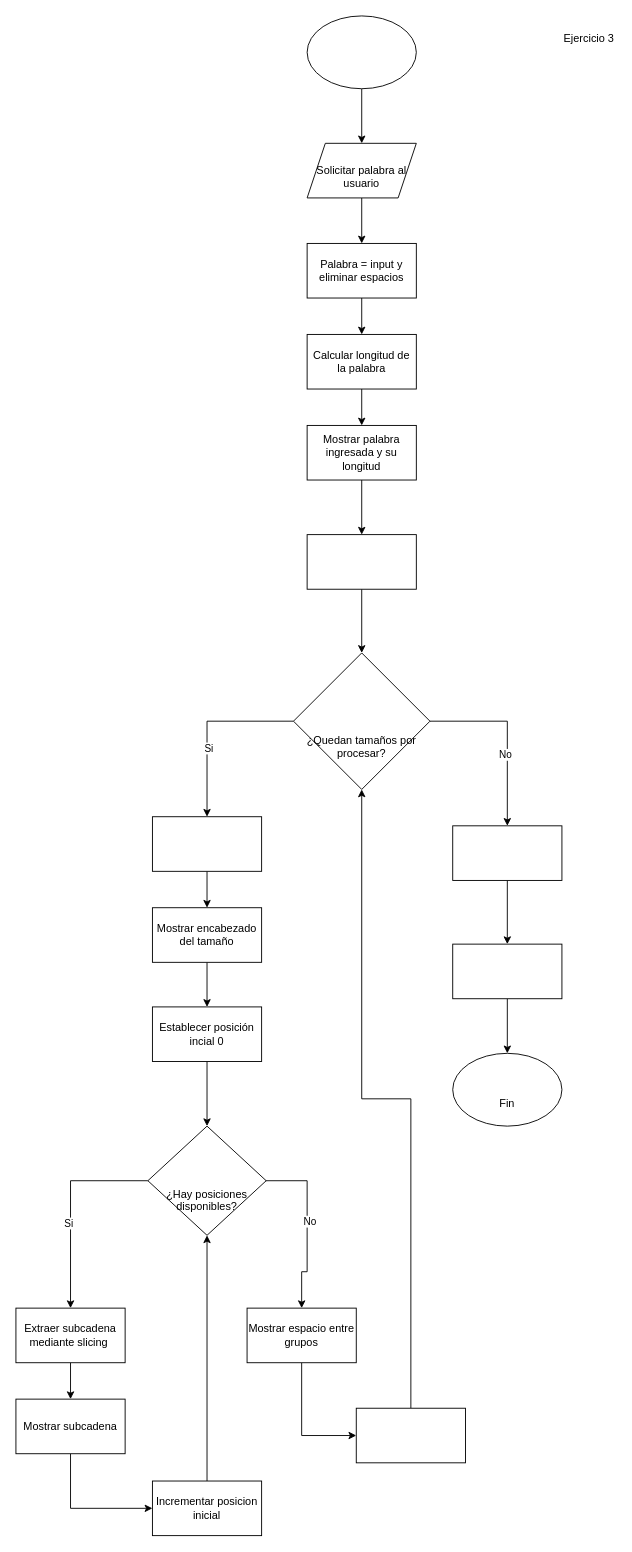
This 632x1552 diagram has some shape labels left out. Here are the shapes that lost their labels. From the top down, the centre of each, then its label:
(x=361, y=52): Inicio
(x=361, y=561): Mostrar titulo de subcadenas ordenadas por longitud
(x=207, y=843): Seleccionar tamaño de subcadena
(x=507, y=852): Mostrar separador final
(x=507, y=971): Mostrar palabra completa
(x=410, y=1435): Incrementar tamaño
